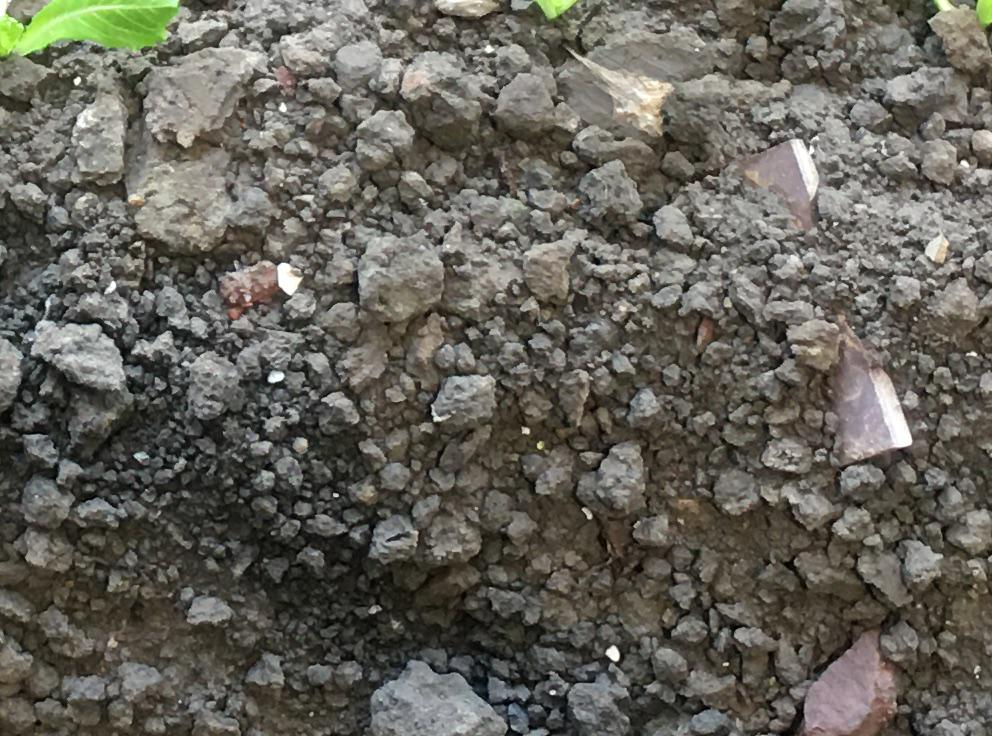block: (114, 115, 248, 252), (135, 47, 279, 134), (365, 655, 516, 736), (354, 234, 442, 320)
